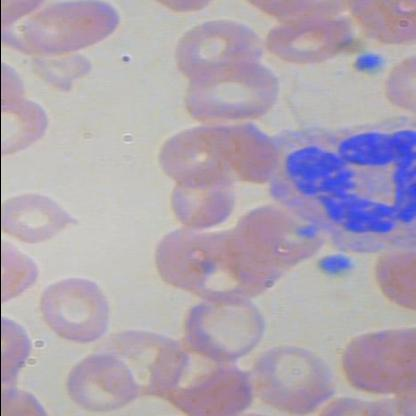Platelets: (344, 47, 388, 76), (317, 252, 355, 278)
RBC: (178, 286, 272, 368), (172, 8, 266, 89), (184, 54, 278, 135), (245, 336, 341, 415), (12, 0, 122, 64), (336, 320, 416, 402), (38, 272, 112, 346), (266, 13, 360, 68), (60, 348, 136, 415), (166, 166, 238, 232), (1, 192, 82, 246), (1, 96, 55, 164)
WBC: (264, 116, 415, 257)
